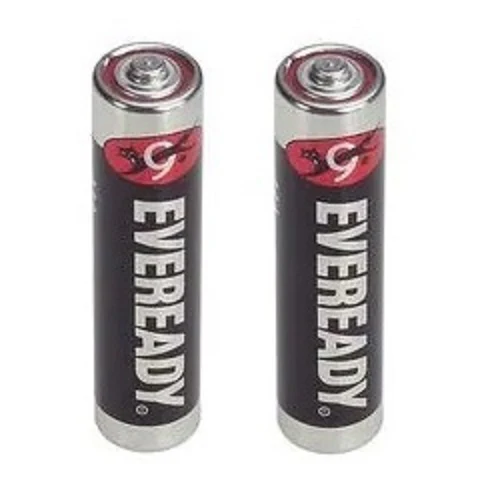toxic_waste: (265, 43, 396, 453), (95, 39, 201, 444)
